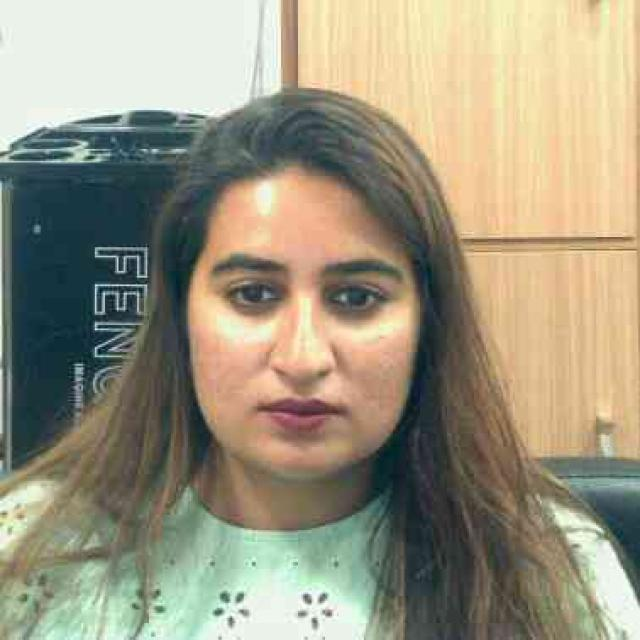puffy_eyes: (230, 300, 281, 326), (330, 303, 387, 324)
